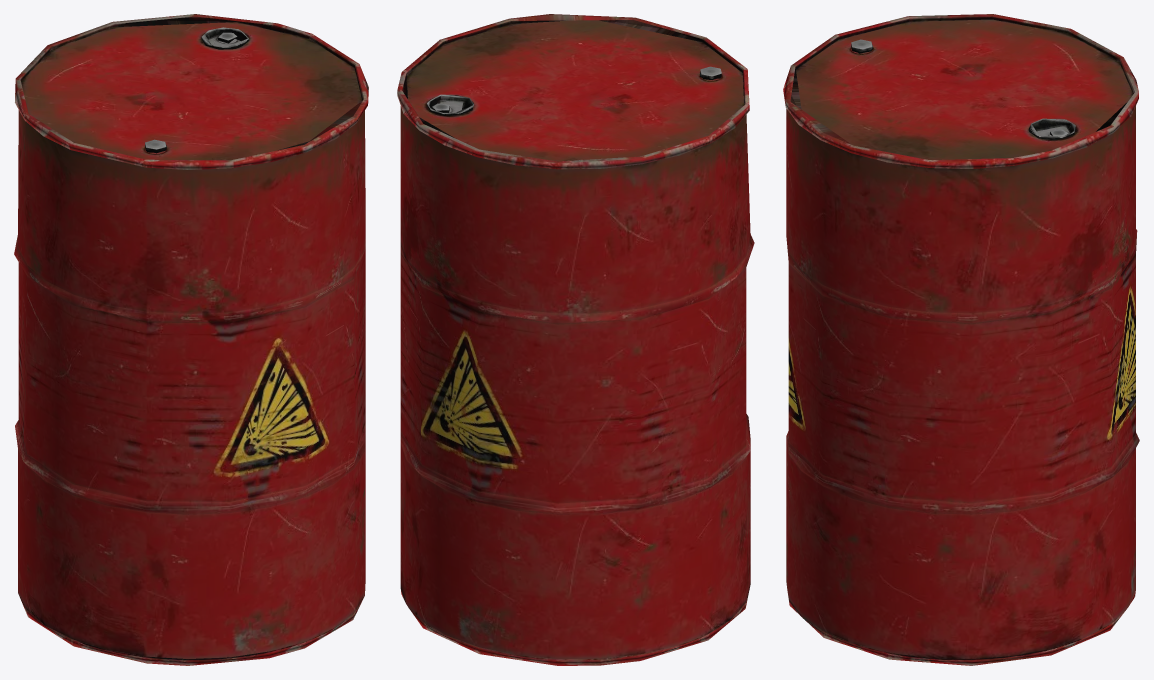
The model's file is ph_Barrel_01_lod1.glb.
3 views of the same model, side by side, from view 1: azimuth 30°, elevation 25°; view 2: azimuth 150°, elevation 25°; view 3: azimuth 270°, elevation 25° (orthographic).
Visible parts, largest first — view 1: Barrel_01; view 2: Barrel_01; view 3: Barrel_01.
Boxes of the visible parts, bbox=[...] form: Barrel_01: bbox=[14, 14, 368, 665]; Barrel_01: bbox=[397, 14, 754, 665]; Barrel_01: bbox=[783, 14, 1139, 665].
Bounding box in the file's own units: 0.5615 × 0.8789 × 0.5615.
1 material, 1 textured.
